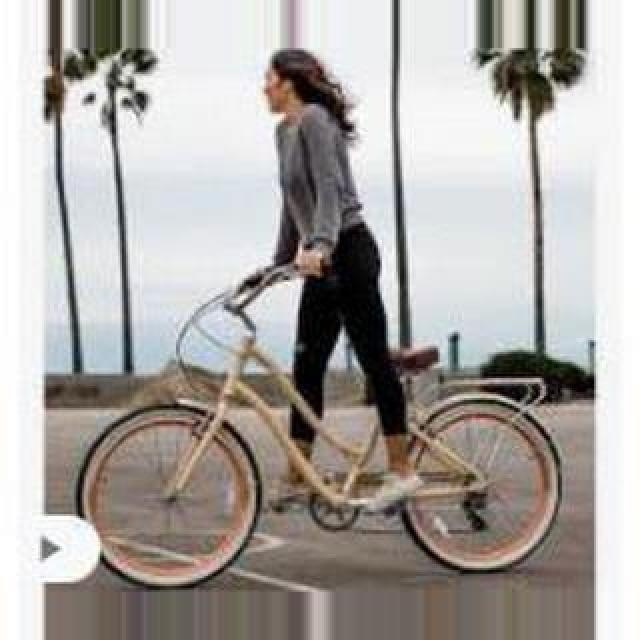MC-Bike: (174, 46, 422, 558)
Person: (76, 272, 564, 588)
